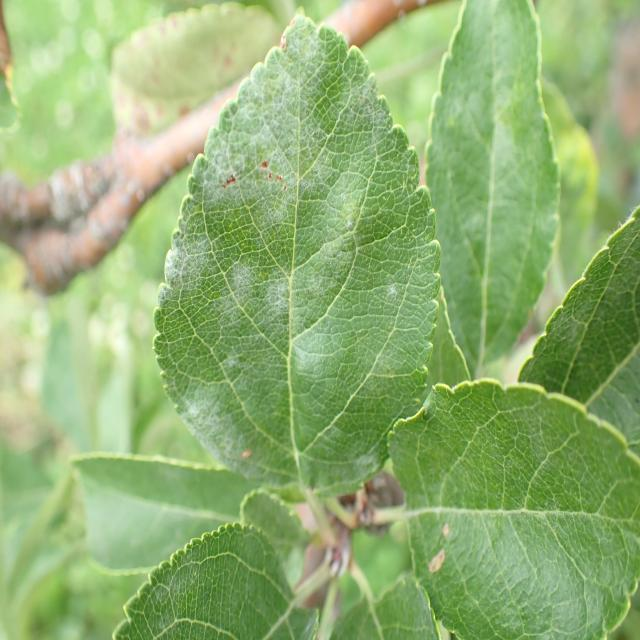Powdery_mildew: (160, 35, 426, 492), (382, 389, 614, 640), (425, 6, 541, 386)
